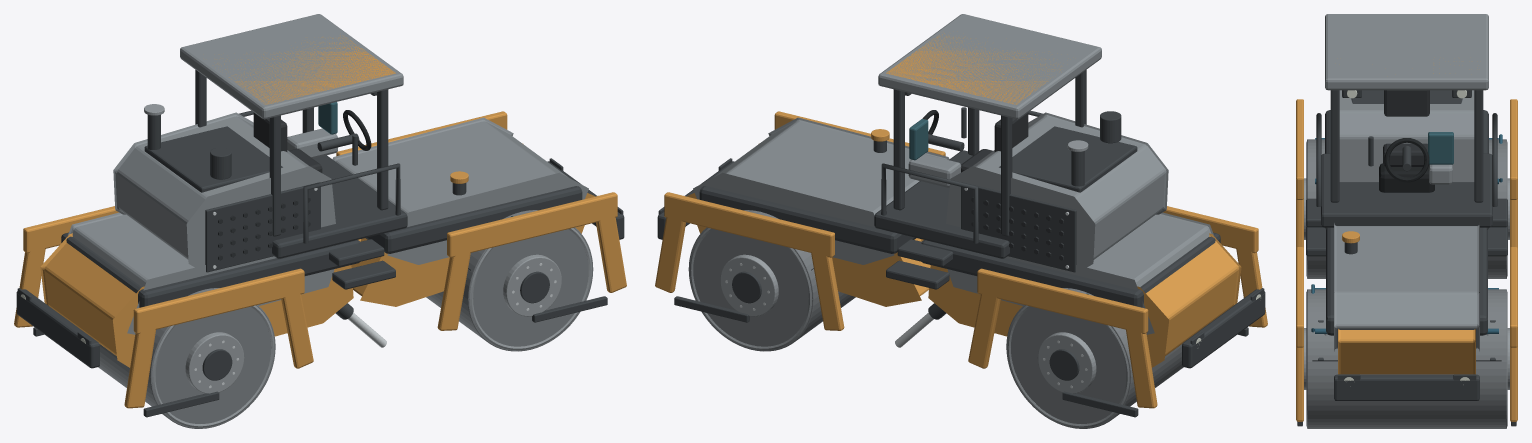
The model's file is volvo-dd128c-structural-study.glb.
The picture shows the model from 3 angles, left to right: view 1: azimuth 30°, elevation 25°; view 2: azimuth 150°, elevation 25°; view 3: azimuth 270°, elevation 25°; orthographic projection. The views are drawn at different scales.
Visible parts, largest first — view 1: FrontWaterTank_640L_Reconstructed, ROPS_FOPS_Canopy, EngineHood_Main_Reconstructed, RearDrum_Shell_2000mm, RearFrame_YokeCore, FrontDrum_Shell_2000mm, RearWaterTank_640L_Reconstructed, EngineServicePanel_L, OperatorPlatform, RearDrumGuard_L, FrontDrumGuard_L, ROPS_Canopy_TopExtent (+29 smaller); view 2: ROPS_FOPS_Canopy, FrontWaterTank_640L_Reconstructed, EngineHood_Main_Reconstructed, RearDrum_Shell_2000mm, RearFrame_YokeCore, FrontDrum_Shell_2000mm, RearWaterTank_640L_Reconstructed, EngineServicePanel_R, ROPS_Canopy_TopExtent, RearDrumGuard_R, OperatorPlatform, FrontDrumGuard_R (+30 smaller); view 3: FrontWaterTank_640L_Reconstructed, ROPS_FOPS_Canopy, FrontDrum_Shell_2000mm, OperatorPlatform, EngineHood_Main_Reconstructed, FrontFrame_YokeCore, FrontBumper_Extent, RearDrum_Shell_2000mm, FrontFrame_Crossmember, OperatorSeat_Back, OperatorIsolationBellows, ROPS_Post_FrontL (+22 smaller).
Part boxes in pixels (box(x1,y1,x2,y2)): FrontWaterTank_640L_Reconstructed: box(332, 117, 588, 264); ROPS_FOPS_Canopy: box(180, 14, 403, 119); EngineHood_Main_Reconstructed: box(113, 112, 335, 267); RearDrum_Shell_2000mm: box(98, 288, 275, 428); RearFrame_YokeCore: box(40, 233, 353, 367); FrontDrum_Shell_2000mm: box(426, 210, 593, 351); RearWaterTank_640L_Reconstructed: box(68, 212, 334, 334); EngineServicePanel_L: box(205, 182, 320, 272); OperatorPlatform: box(272, 155, 407, 258); RearDrumGuard_L: box(133, 268, 304, 333); FrontDrumGuard_L: box(447, 192, 617, 257); ROPS_Canopy_TopExtent: box(217, 35, 395, 104); ROPS_FOPS_Canopy: box(878, 14, 1101, 119); FrontWaterTank_640L_Reconstructed: box(693, 117, 949, 264); EngineHood_Main_Reconstructed: box(946, 112, 1168, 267); RearDrum_Shell_2000mm: box(1006, 288, 1183, 428); RearFrame_YokeCore: box(928, 233, 1241, 367); FrontDrum_Shell_2000mm: box(688, 210, 855, 351); RearWaterTank_640L_Reconstructed: box(947, 212, 1213, 334); EngineServicePanel_R: box(961, 182, 1076, 272); ROPS_Canopy_TopExtent: box(886, 33, 1060, 104); RearDrumGuard_R: box(977, 268, 1148, 333); OperatorPlatform: box(874, 150, 1009, 258); FrontDrumGuard_R: box(664, 192, 834, 257); FrontWaterTank_640L_Reconstructed: box(1334, 223, 1479, 351); ROPS_FOPS_Canopy: box(1325, 14, 1488, 90); FrontDrum_Shell_2000mm: box(1307, 289, 1506, 428); OperatorPlatform: box(1321, 153, 1492, 227); EngineHood_Main_Reconstructed: box(1339, 90, 1474, 182); FrontFrame_YokeCore: box(1338, 329, 1475, 374); FrontBumper_Extent: box(1334, 374, 1479, 400); RearDrum_Shell_2000mm: box(1307, 139, 1506, 278); FrontFrame_Crossmember: box(1326, 227, 1487, 335); OperatorSeat_Back: box(1384, 90, 1429, 116); OperatorIsolationBellows: box(1379, 163, 1434, 192); ROPS_Post_FrontL: box(1330, 90, 1339, 202).
Bounding box in the file's own units: 5.97 × 3.18 × 2.22.
